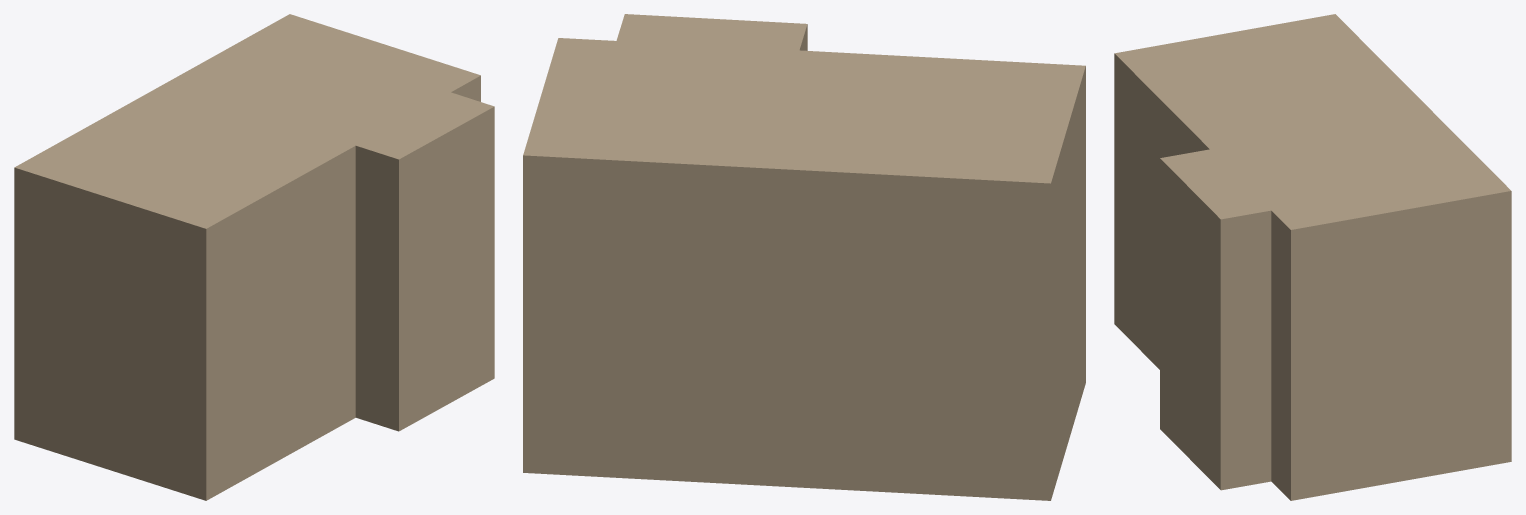
Rendered from bld_106796631.dae.
The picture shows the model from 3 angles, left to right: view 1: azimuth 30°, elevation 25°; view 2: azimuth 150°, elevation 25°; view 3: azimuth 270°, elevation 25°; orthographic projection. The views are drawn at different scales.
Parts seen in each view (by area): view 1: bld_106796631; view 2: bld_106796631; view 3: bld_106796631.
Boxes of the visible parts, x1,y1,x2,y2 form: bld_106796631: (14,14,494,500); bld_106796631: (523,14,1085,500); bld_106796631: (1114,14,1511,500).
Bounding box in the file's own units: 13.68 × 10.62 × 8.
